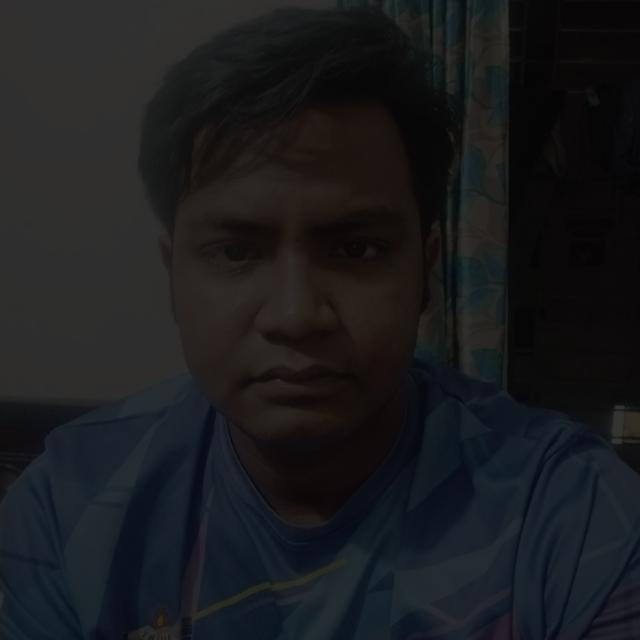Natural: (83, 106, 461, 493)
